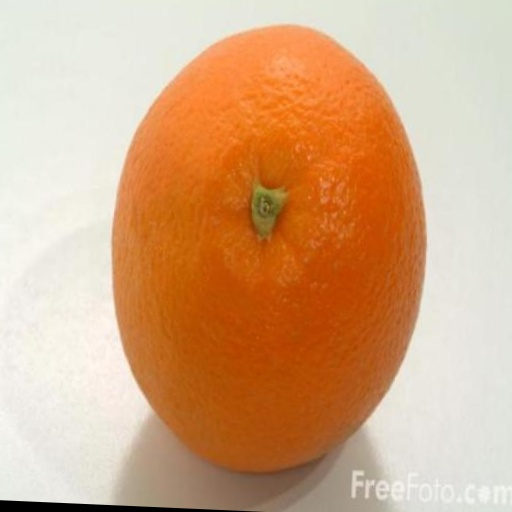fruit: (113, 26, 426, 471)
